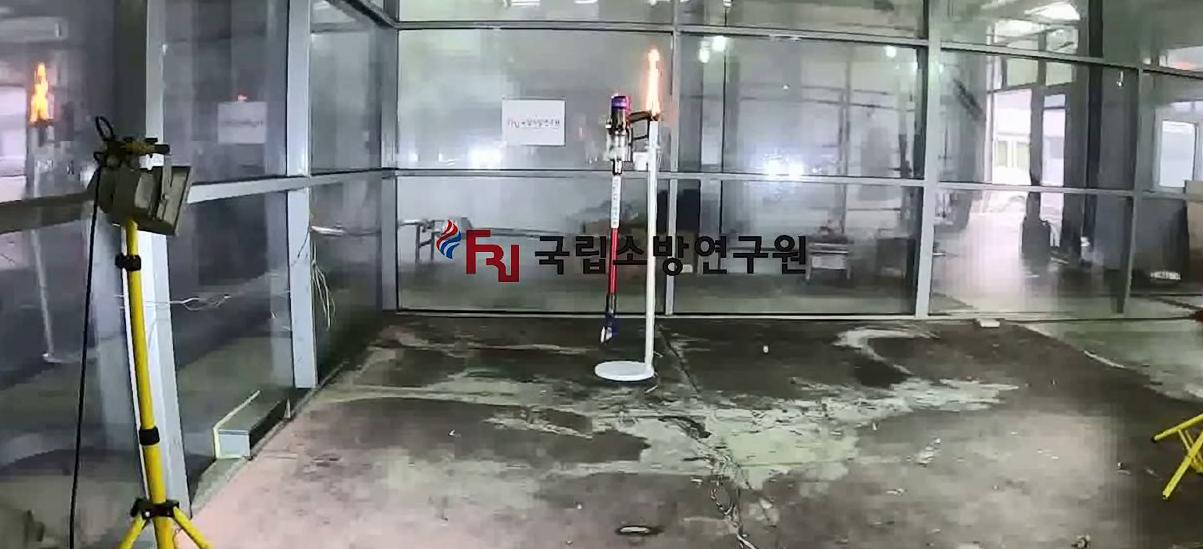fire: (29, 63, 51, 122), (645, 49, 661, 116)
